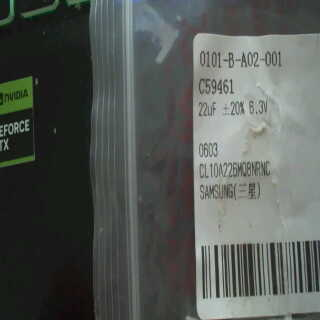22uF: (197, 99, 217, 118)
